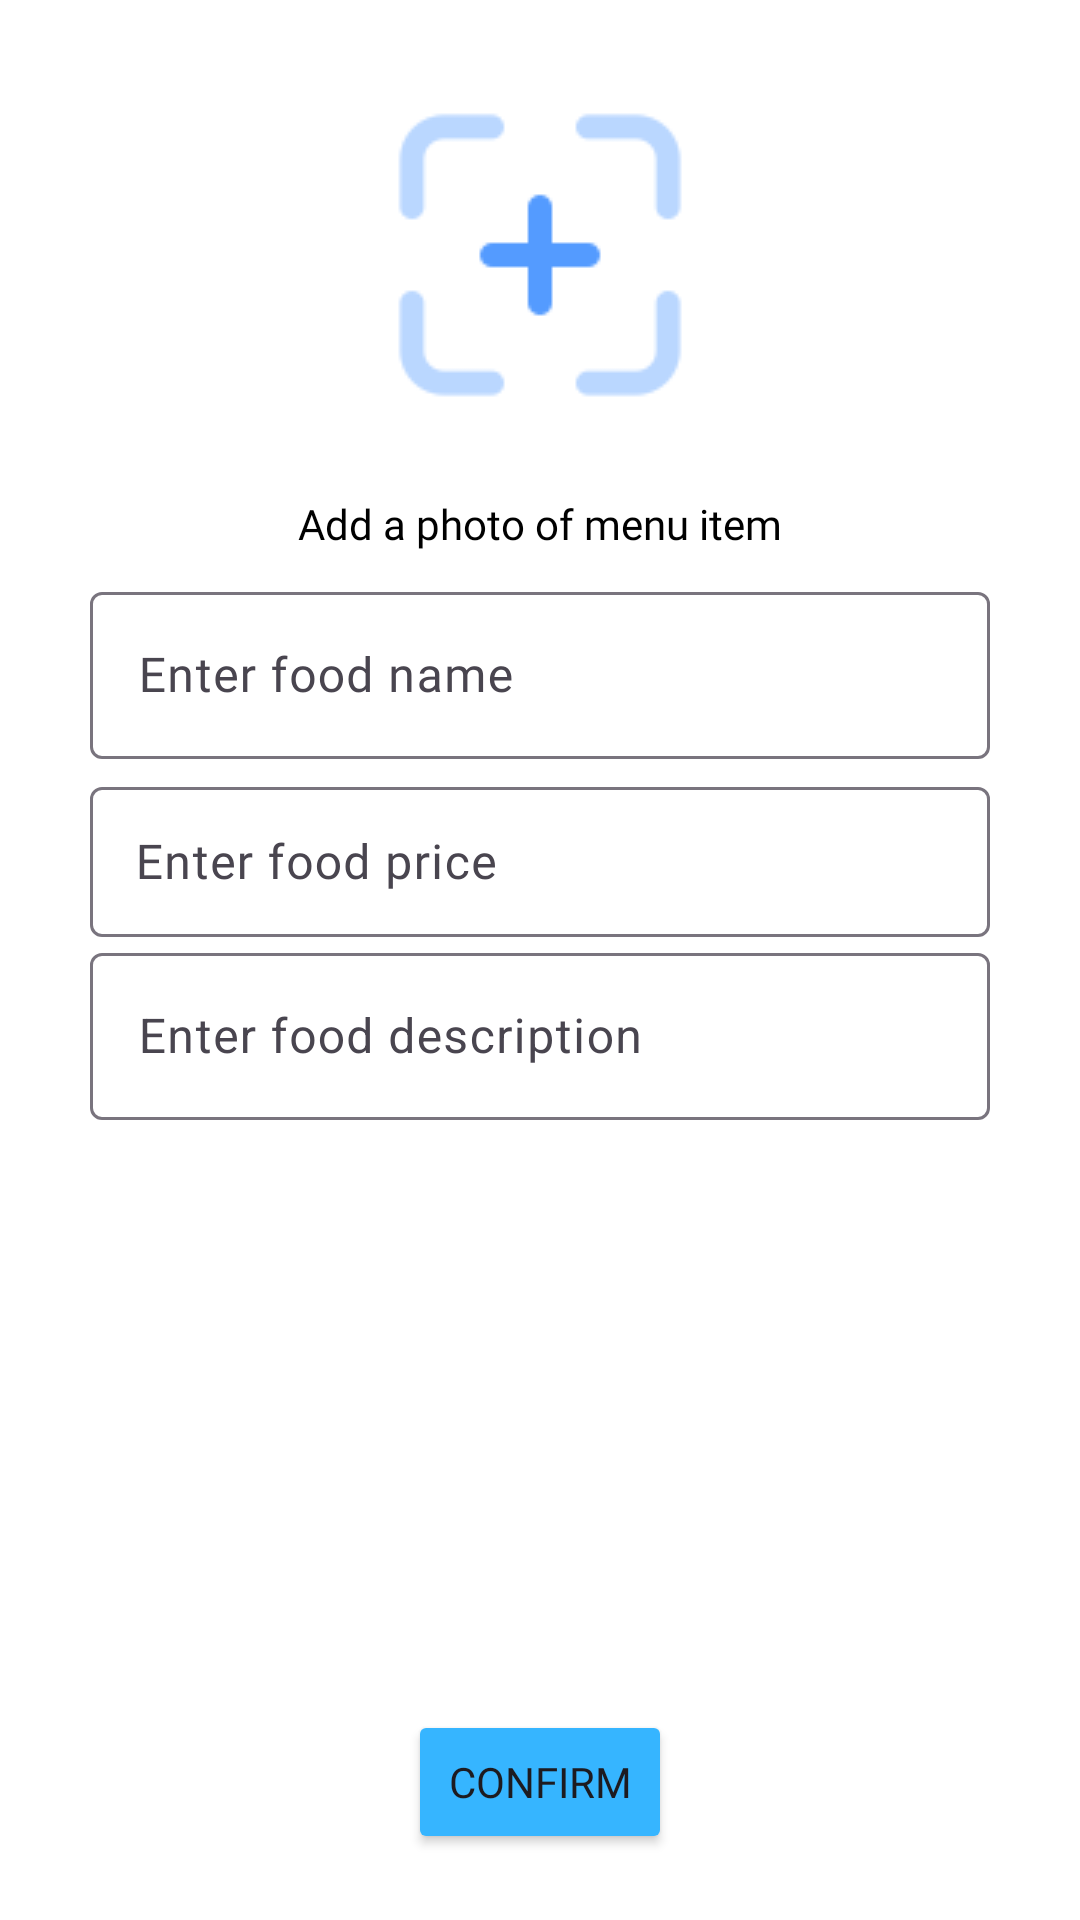

Where icons sit on this 1080*1920 app screen, as box=[x1, y1, x2, y2]:
addimage: box=[399, 114, 681, 396]
